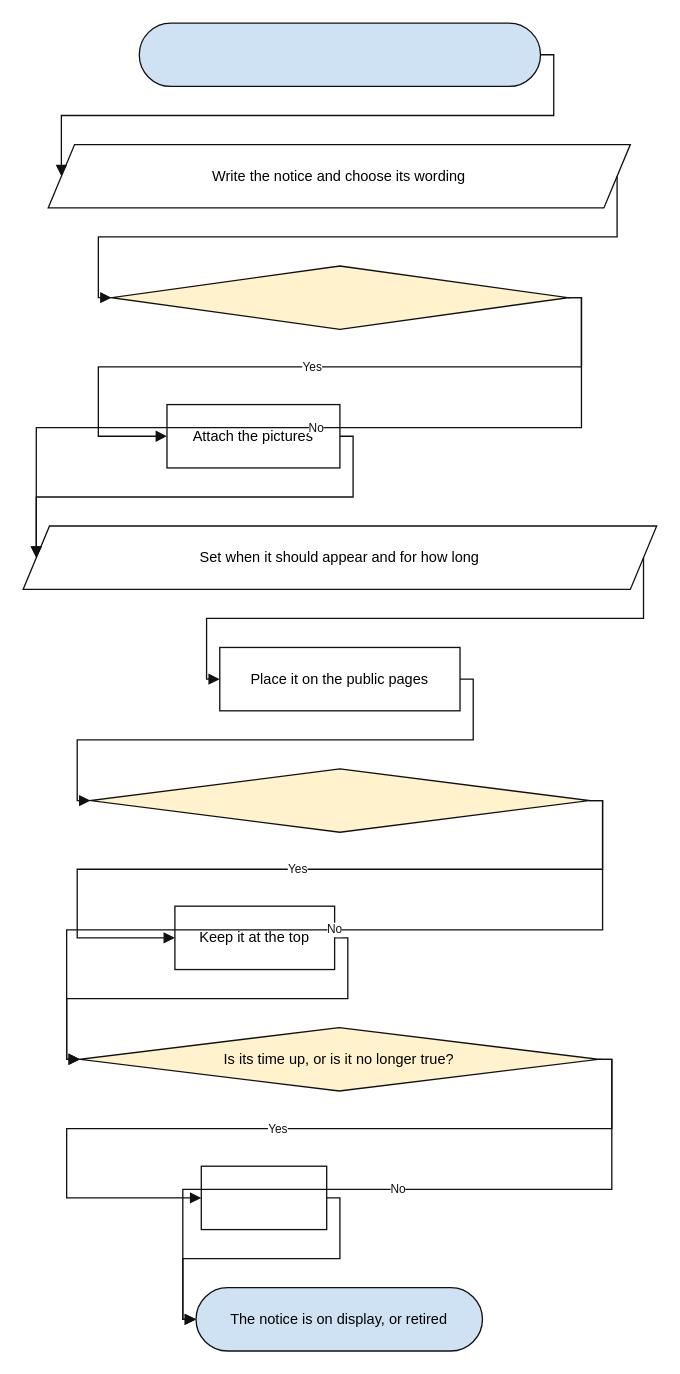
Image size: 680x1374. Some labels were removed from this diagram. Each missing label, with the centre of its shape:
"Are there pictures to go with it?" belongs at pixel 339 297.
"Does it deserve the top of the list?" belongs at pixel 339 800.
"Take it down" belongs at pixel 263 1197.
"The office has something the public should know" belongs at pixel 339 54.
